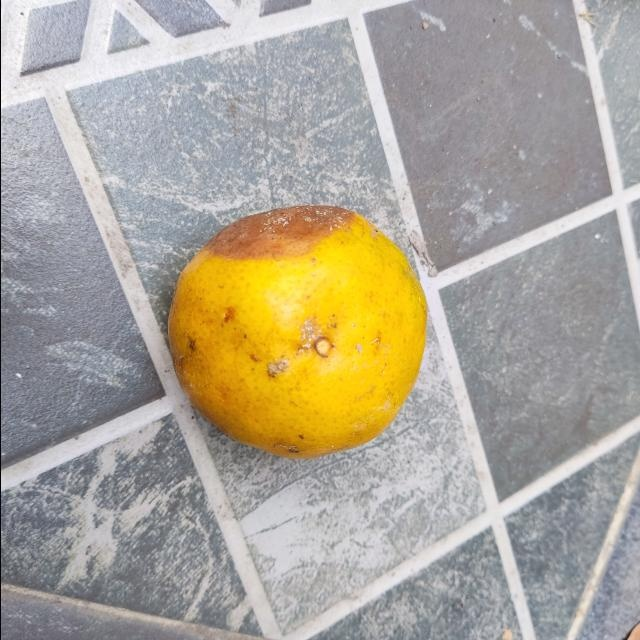agrume: (164, 204, 429, 460)
